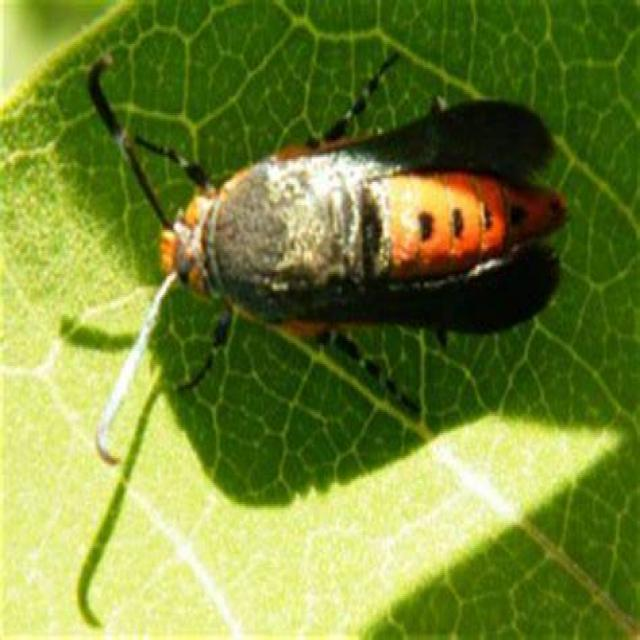squash_vine_borer: (64, 38, 584, 470)
